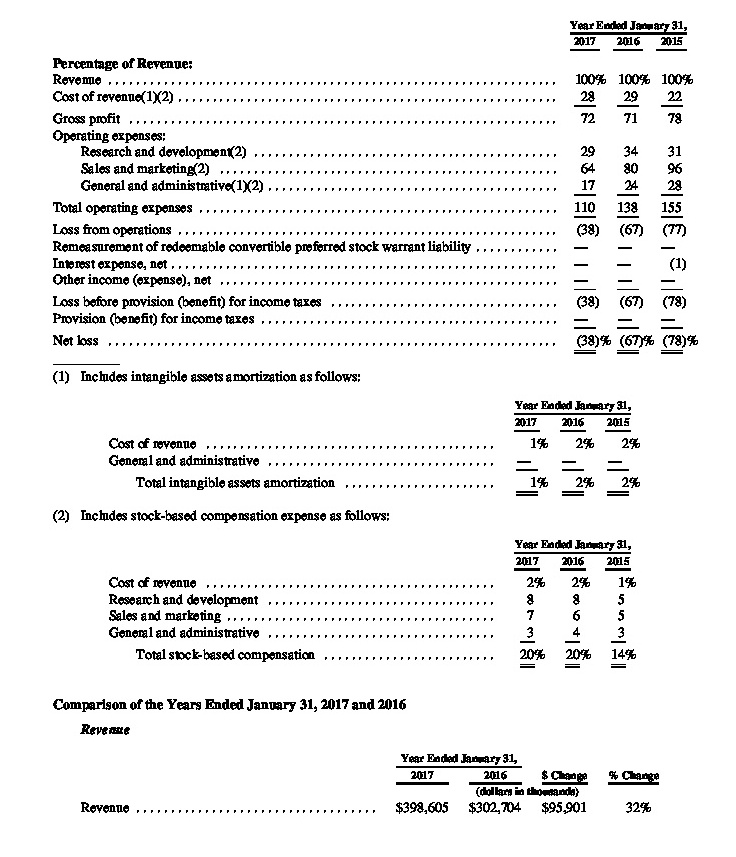table: (0, 0, 736, 857)
